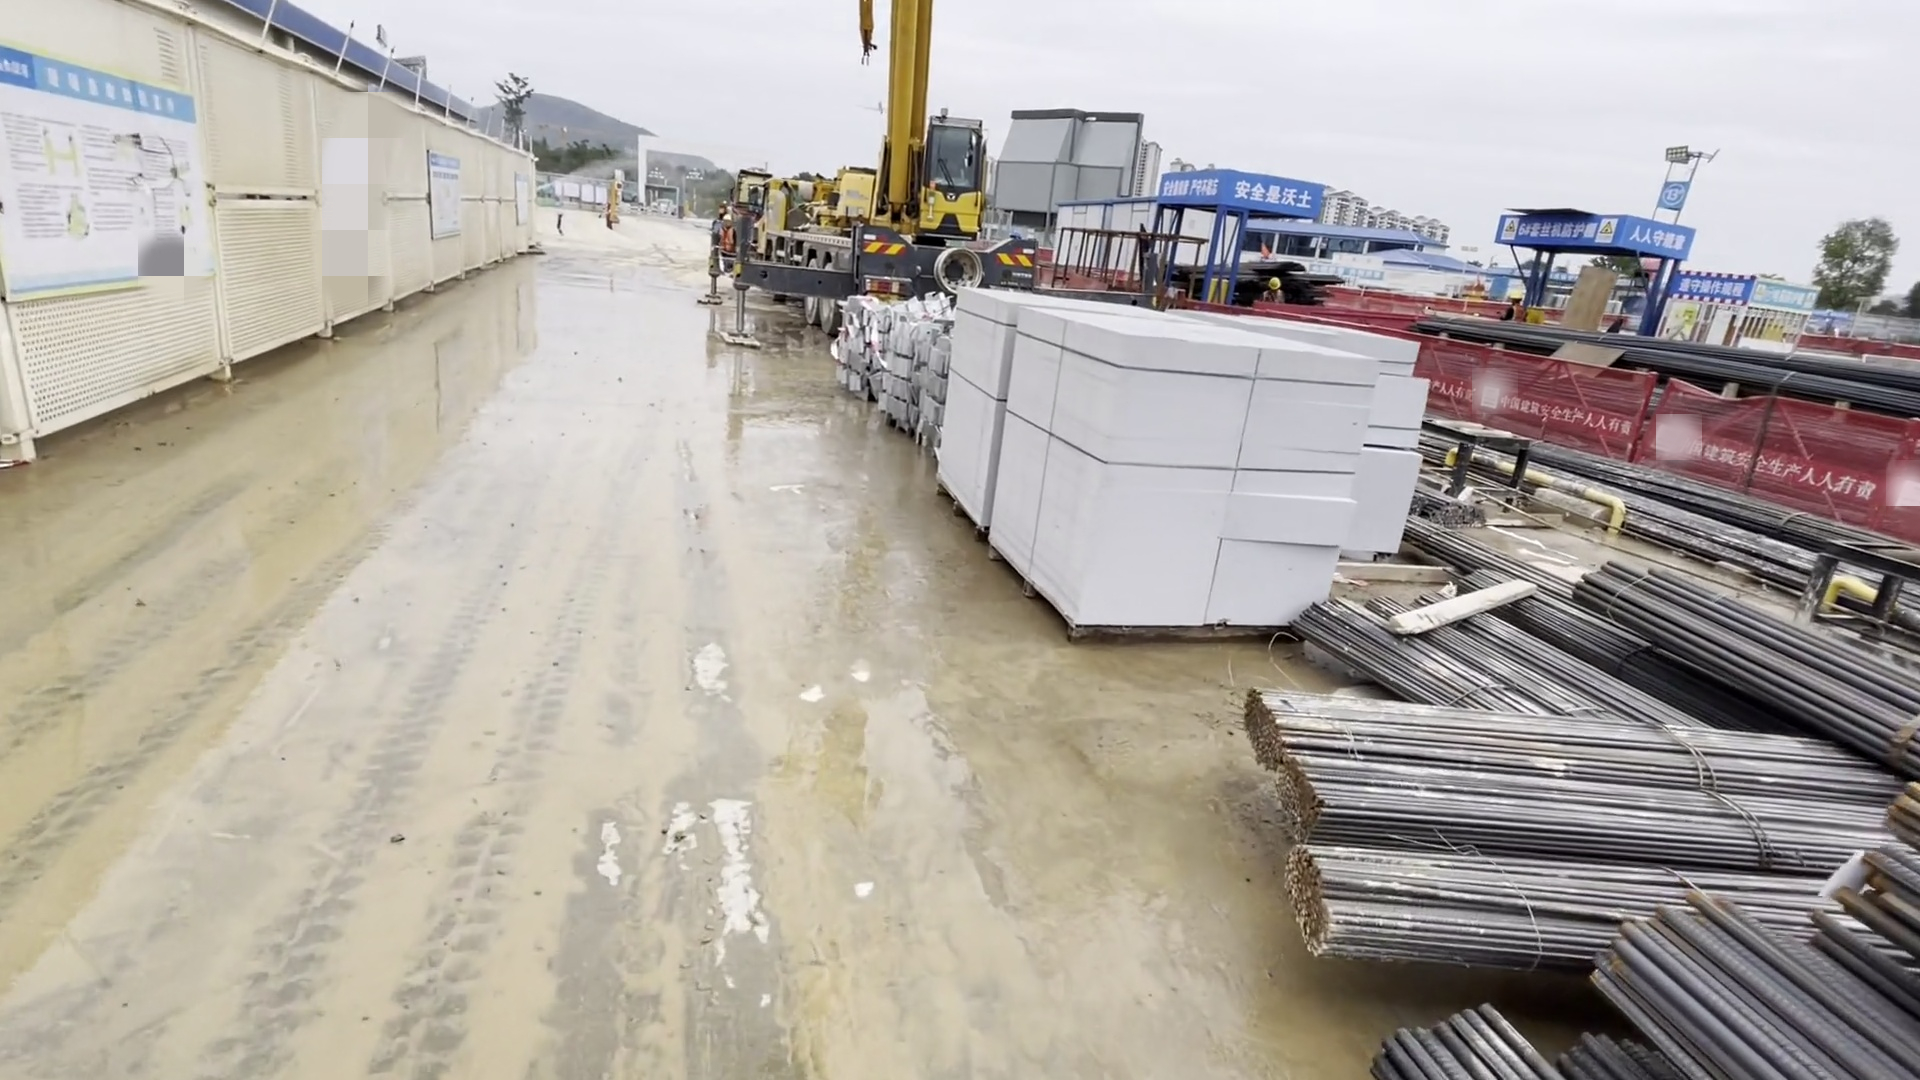brick: (947, 284, 1443, 653)
rebar: (1295, 578, 1920, 1068)
slogan: (4, 42, 225, 303), (1149, 164, 1319, 225), (1484, 214, 1704, 258)
